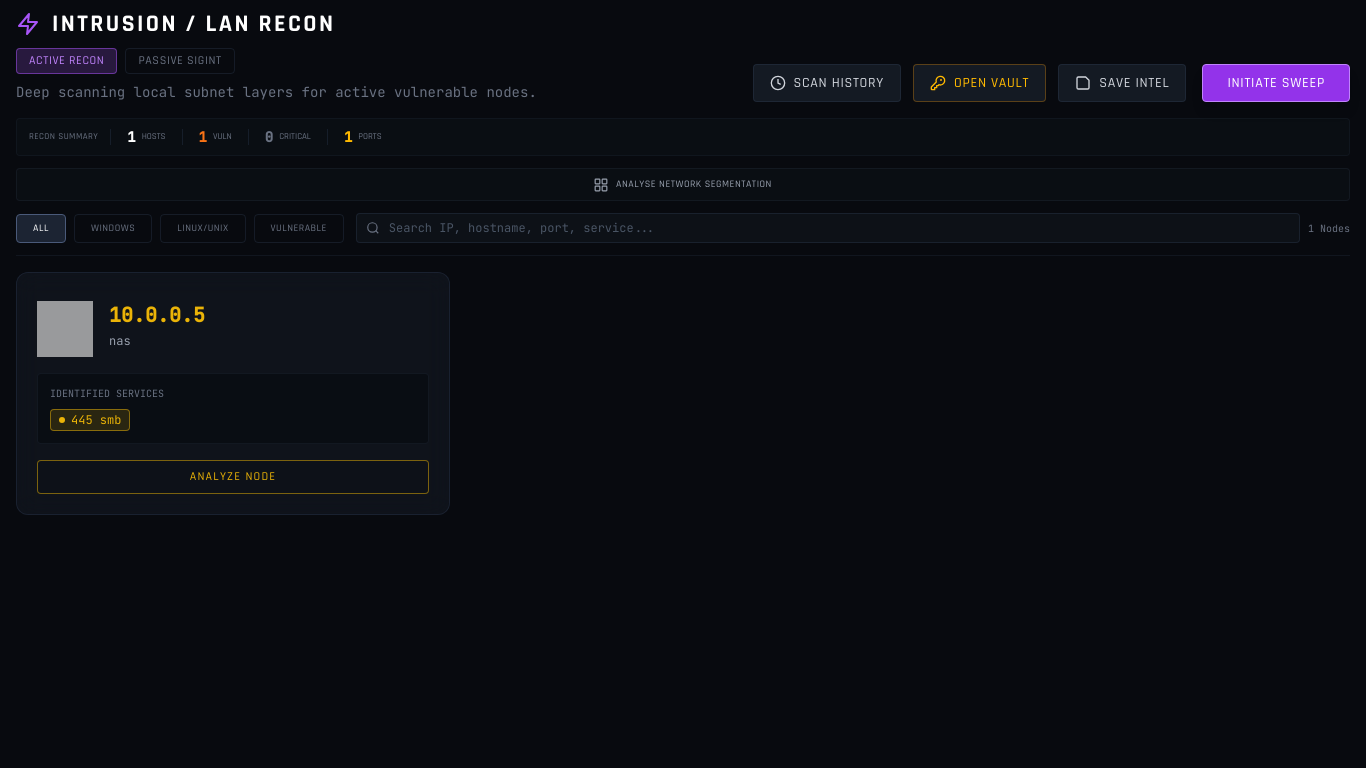
Test: the summary line › answers the question without opening anything
Click the button "ANALYSE NETWORK SEGMENTATION". click: point(683, 184)
box: [16,168,1350,201]
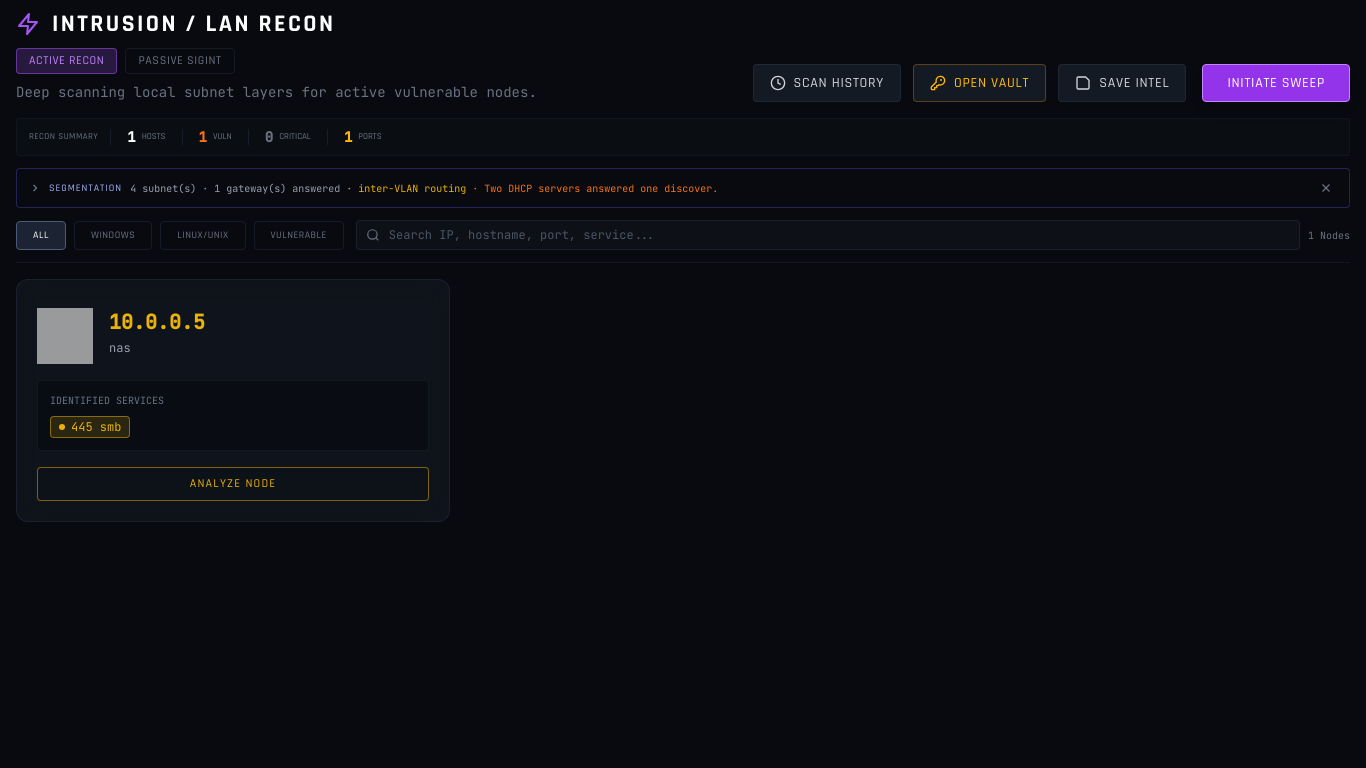
Now the text "subnet(s) ·" shows "4 subnet(s)", box [130,180,718,196]
Now the text "subnet(s) ·" shows "1 gateway(s) answered", box [130,180,718,196]
Now the text "subnet(s) ·" shows "inter-VLAN routing", box [340,182,466,194]
